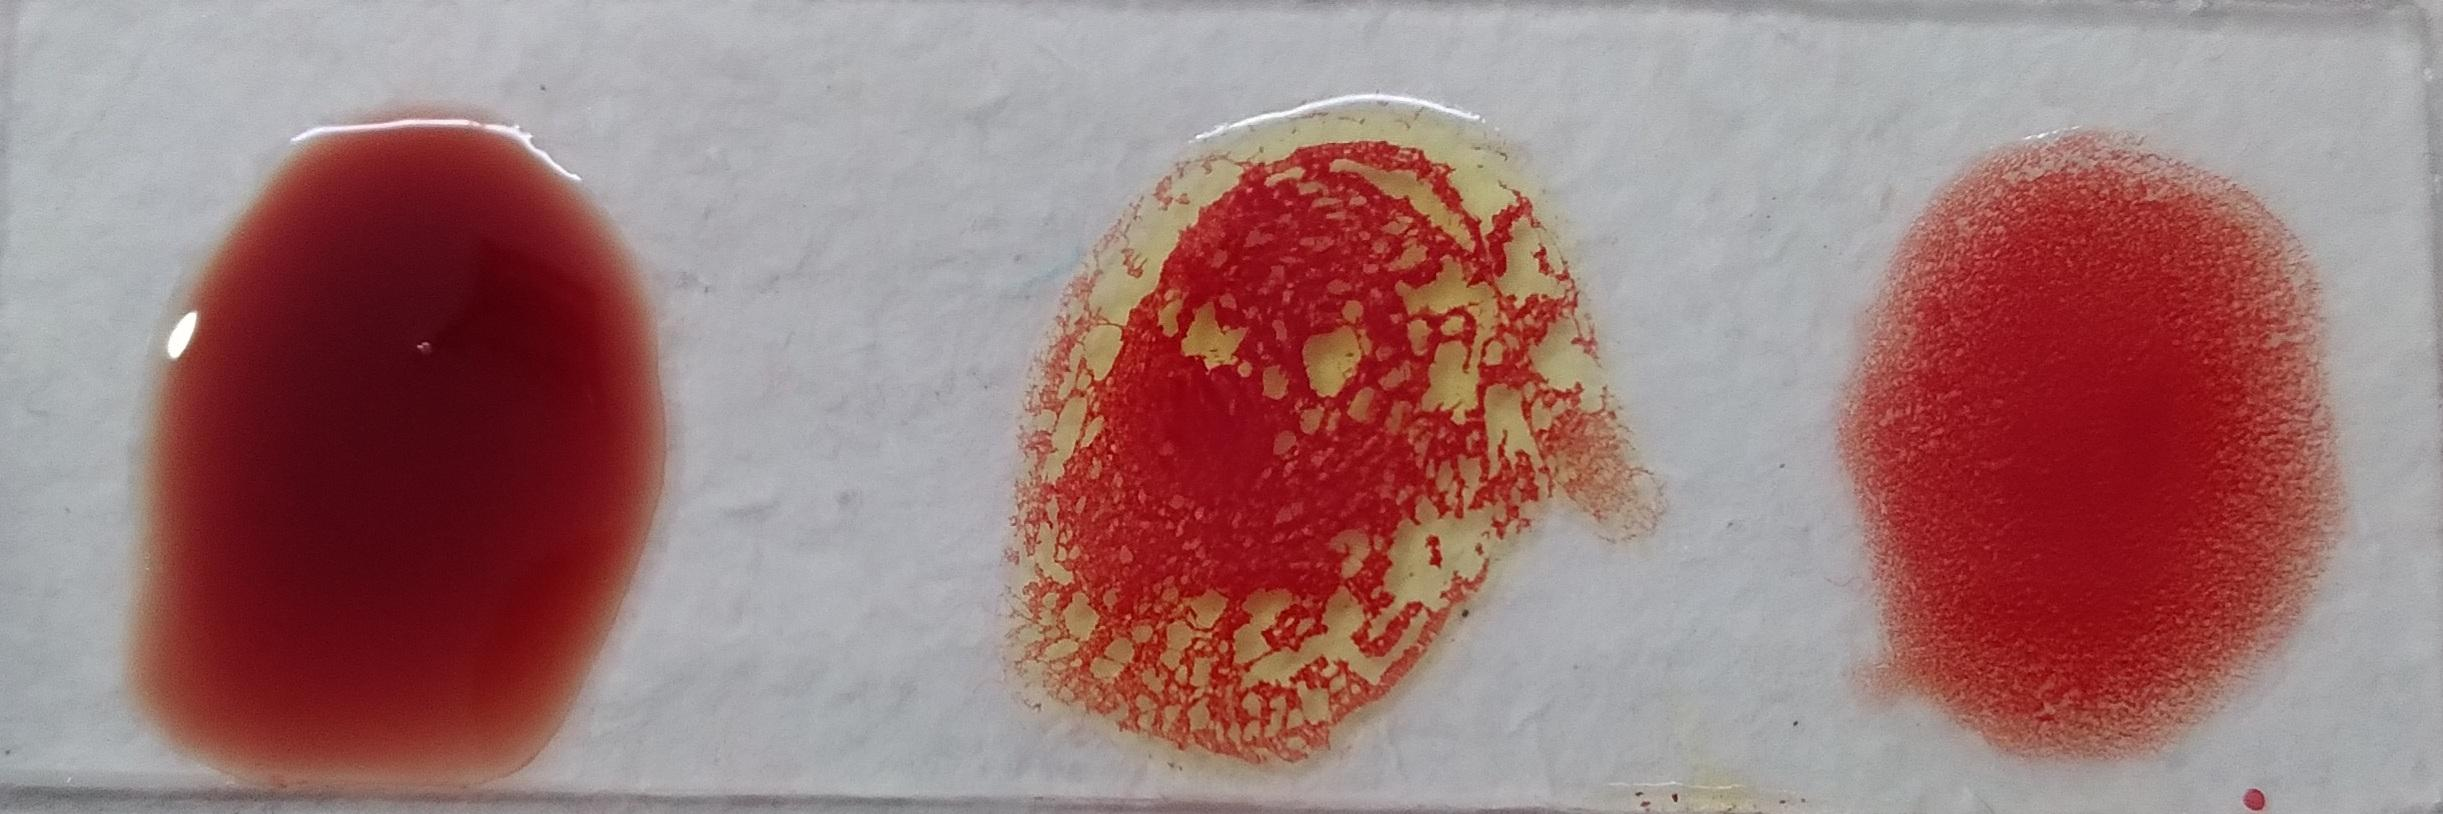B: (848, 45, 1426, 722)
D: (95, 42, 583, 683)
